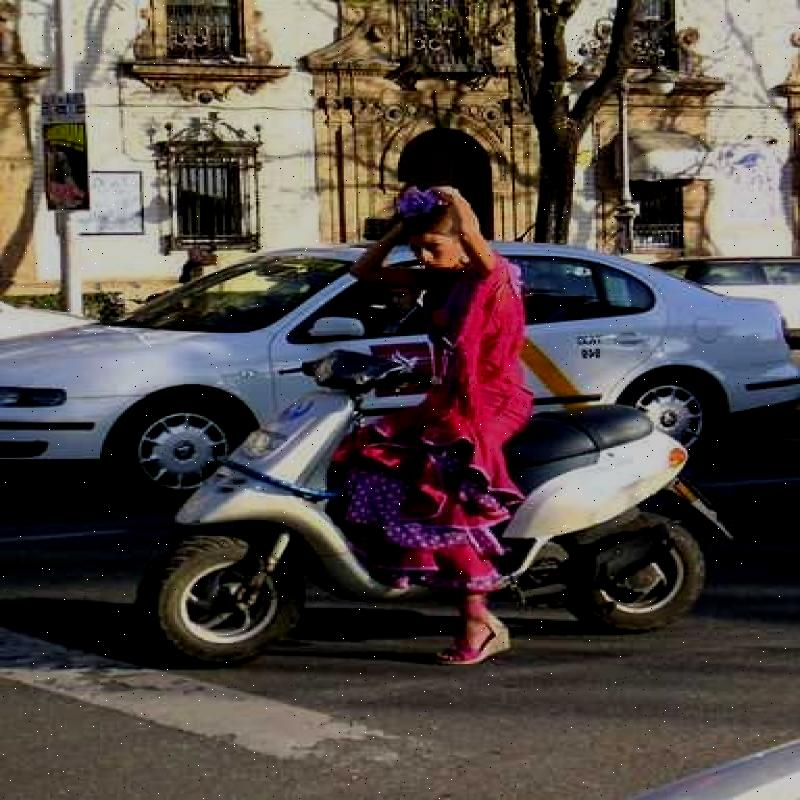bike: (143, 363, 701, 679)
